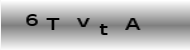6: (24, 13, 39, 26)
A: (124, 17, 141, 31)
T: (45, 17, 59, 30)
t: (98, 23, 109, 36)
v: (76, 16, 90, 28)
